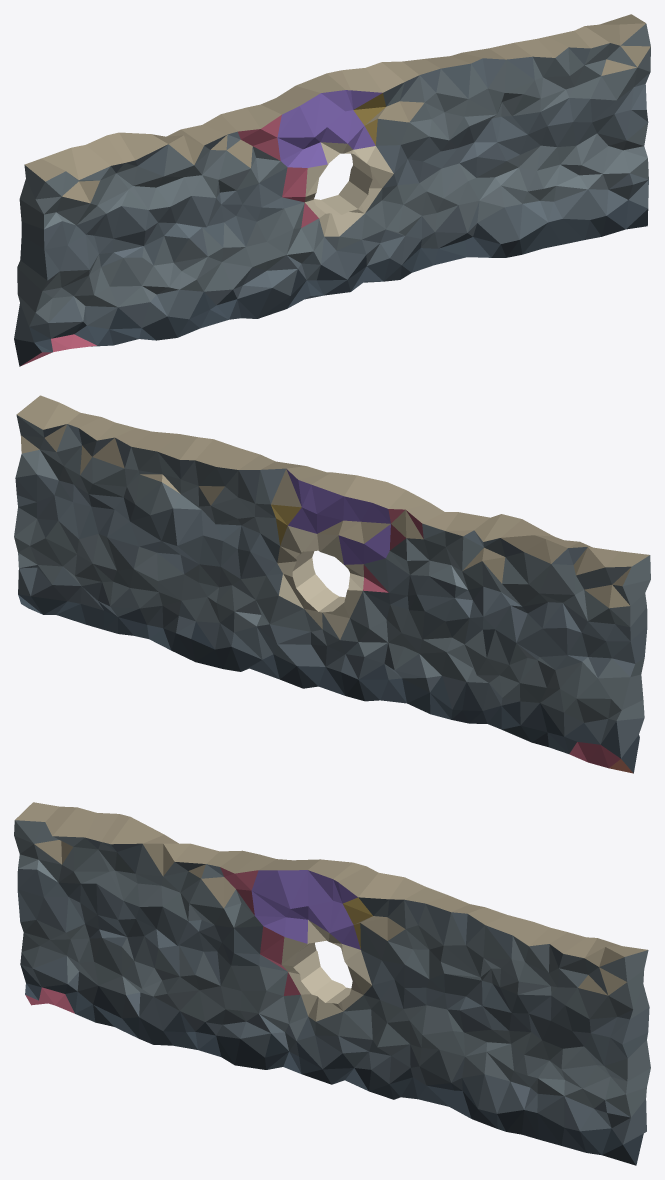
The model's file is Reef_Gate_High.glb.
3 views of the same model, one above another, from view 1: azimuth 30°, elevation 25°; view 2: azimuth 150°, elevation 25°; view 3: azimuth 330°, elevation 25° (orthographic).
Parts seen in each view (by area): view 1: Reef_Gate_High; view 2: Reef_Gate_High; view 3: Reef_Gate_High.
Part boxes in pixels (x1,y1,x2,y2): Reef_Gate_High: [14, 14, 650, 366]; Reef_Gate_High: [14, 395, 650, 773]; Reef_Gate_High: [14, 802, 650, 1165].
Bounding box in the file's own units: 46.68 × 15.71 × 4.55.
